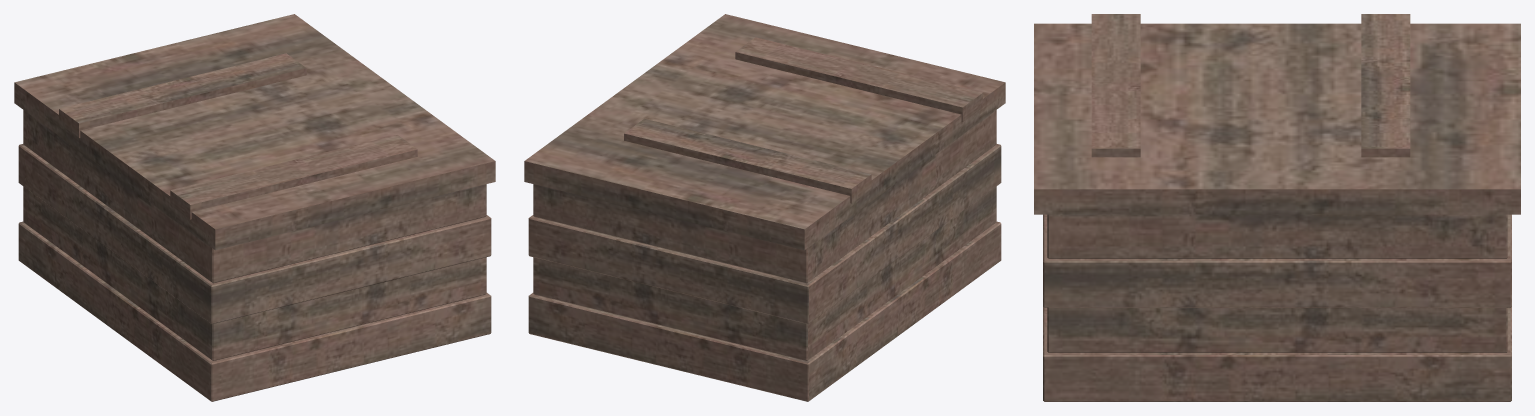
The model's file is SM_crate_01.glb.
The picture shows the model from 3 angles, left to right: view 1: azimuth 30°, elevation 25°; view 2: azimuth 150°, elevation 25°; view 3: azimuth 270°, elevation 25°; orthographic projection. The views are drawn at different scales.
Visible parts, largest first — view 1: SM_crate_01; view 2: SM_crate_01; view 3: SM_crate_01.
Part boxes in pixels (bbox=[...]): SM_crate_01: bbox=[14, 14, 495, 401]; SM_crate_01: bbox=[524, 14, 1005, 401]; SM_crate_01: bbox=[1034, 14, 1520, 401].
Bounding box in the file's own units: 0.897 × 0.5577 × 1.11.
1 material, 1 textured.
